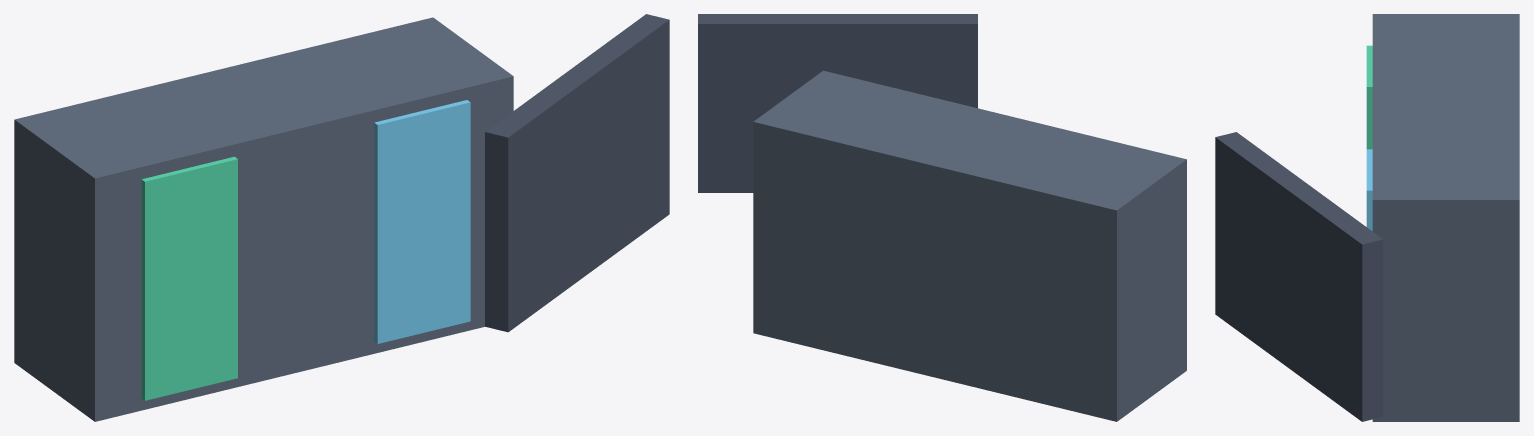
File: industrial_automation_plc.glb
The picture shows the model from 3 angles, left to right: view 1: azimuth 30°, elevation 25°; view 2: azimuth 150°, elevation 25°; view 3: azimuth 270°, elevation 25°; orthographic projection. The views are drawn at different scales.
Parts seen in each view (by area): view 1: ModularPLCCPURack, SCADATouchHMI, DigitalIOModuleBlock, PowerSupplyUnit24V; view 2: ModularPLCCPURack, SCADATouchHMI; view 3: ModularPLCCPURack, SCADATouchHMI, PowerSupplyUnit24V, DigitalIOModuleBlock.
Part boxes in pixels (bbox=[...]): ModularPLCCPURack: bbox=[14, 17, 513, 421]; SCADATouchHMI: bbox=[485, 14, 669, 332]; DigitalIOModuleBlock: bbox=[374, 100, 470, 343]; PowerSupplyUnit24V: bbox=[141, 156, 237, 400]; ModularPLCCPURack: bbox=[753, 70, 1186, 421]; SCADATouchHMI: bbox=[698, 14, 977, 192]; ModularPLCCPURack: bbox=[1372, 14, 1519, 421]; SCADATouchHMI: bbox=[1215, 132, 1383, 421]; PowerSupplyUnit24V: bbox=[1366, 45, 1372, 149]; DigitalIOModuleBlock: bbox=[1366, 149, 1372, 231].
Bounding box in the file's own units: 2.44 × 1.1 × 1.24.
